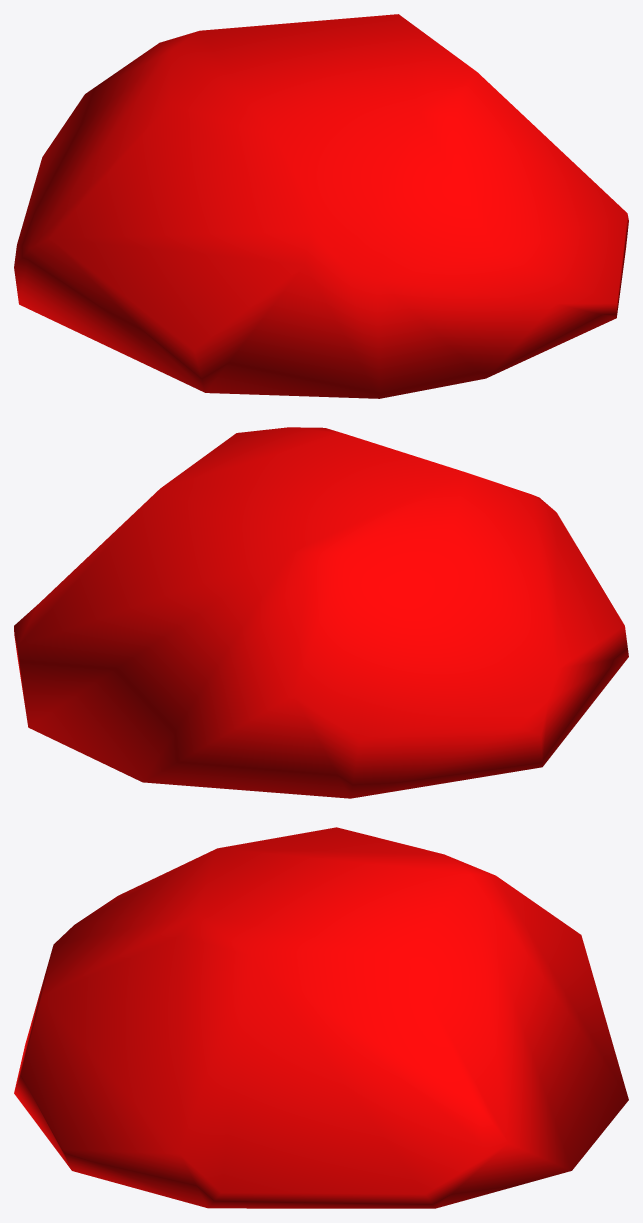
The model's file is Rocher1_LowPoly.fbx.
The picture shows the model from 3 angles, top to bottom: view 1: azimuth 30°, elevation 25°; view 2: azimuth 150°, elevation 25°; view 3: azimuth 270°, elevation 25°; orthographic projection.
Visible parts, largest first — view 1: Rocher1_LowPoly; view 2: Rocher1_LowPoly; view 3: Rocher1_LowPoly.
Part boxes in pixels (x1=…): Rocher1_LowPoly: x1=14, y1=14, x2=628, y2=398; Rocher1_LowPoly: x1=14, y1=427, x2=628, y2=798; Rocher1_LowPoly: x1=14, y1=827, x2=628, y2=1208.
Bounding box in the file's own units: 119 × 41.97 × 122.
